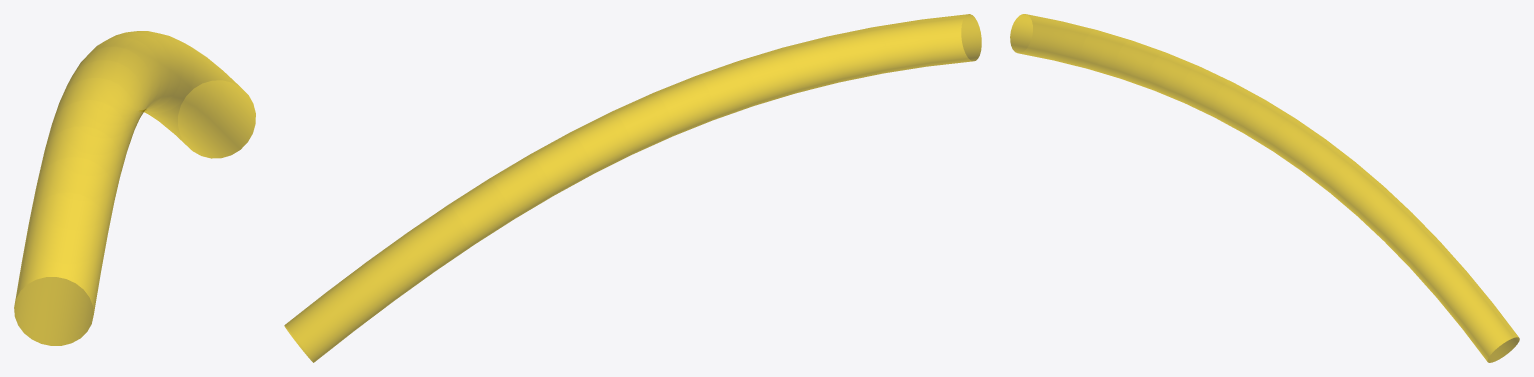
The model's file is Event_75125125_track_80.fbx.
The picture shows the model from 3 angles, left to right: view 1: azimuth 30°, elevation 25°; view 2: azimuth 150°, elevation 25°; view 3: azimuth 270°, elevation 25°; orthographic projection. The views are drawn at different scales.
Visible parts, largest first — view 1: Model; view 2: Model; view 3: Model.
Boxes of the visible parts, box(x1,y1,x2,y2) form: Model: box(14, 31, 255, 345); Model: box(284, 14, 981, 362); Model: box(1010, 14, 1519, 362).
Size of the model in its own units: 0.4049 by 0.2171 by 0.5092.
